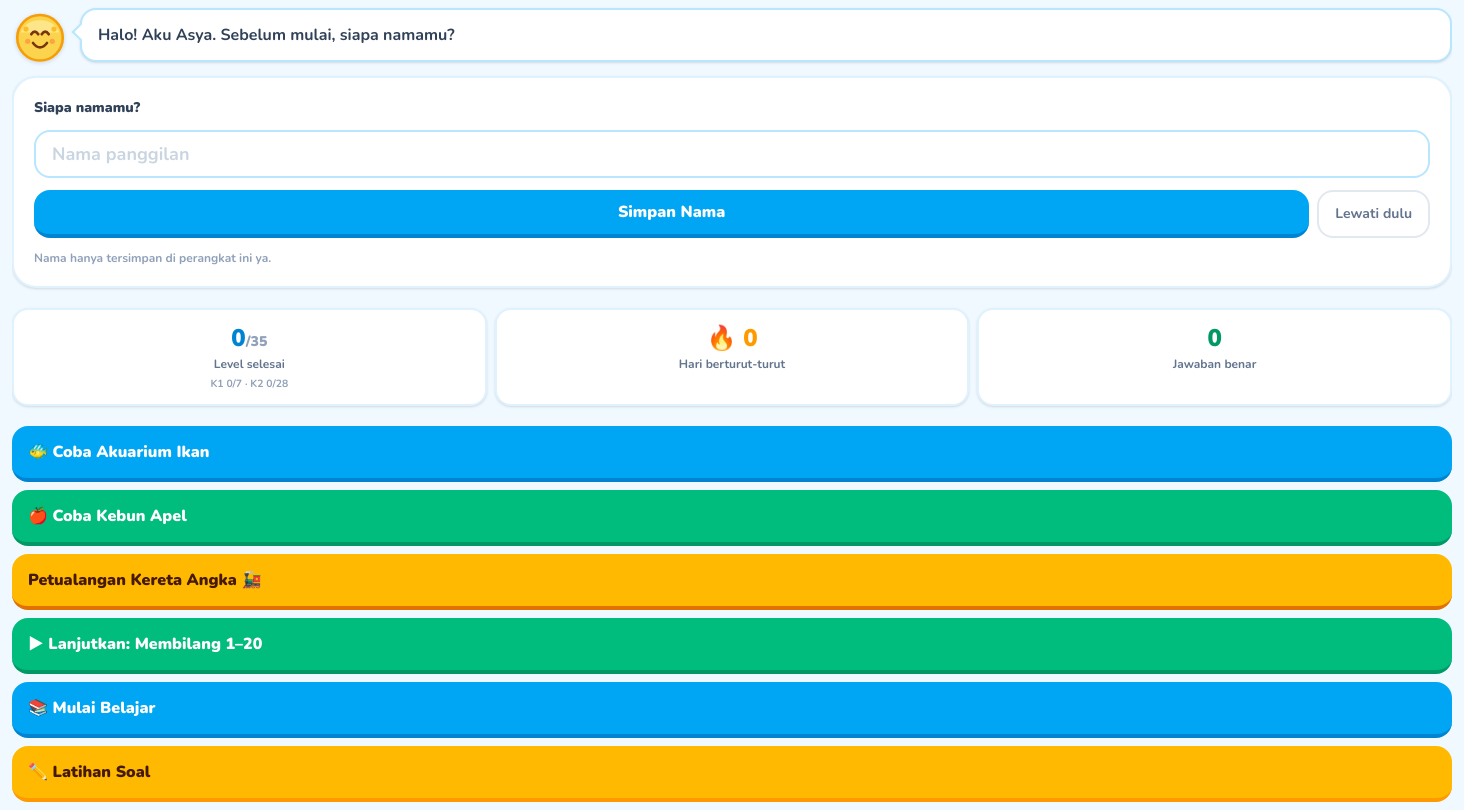
Test: HomeScreen › tombol lanjutkan ke concept vs column sesuai lastLevel
This screenshot has width=1464, height=810.
Later steps or results of the test are not shown.
Click the button "▶ Lanjutkan: Membilang 1–20". click: (145, 644)
box: x1=12 y1=618 x2=1452 y2=674
(page scrolled)
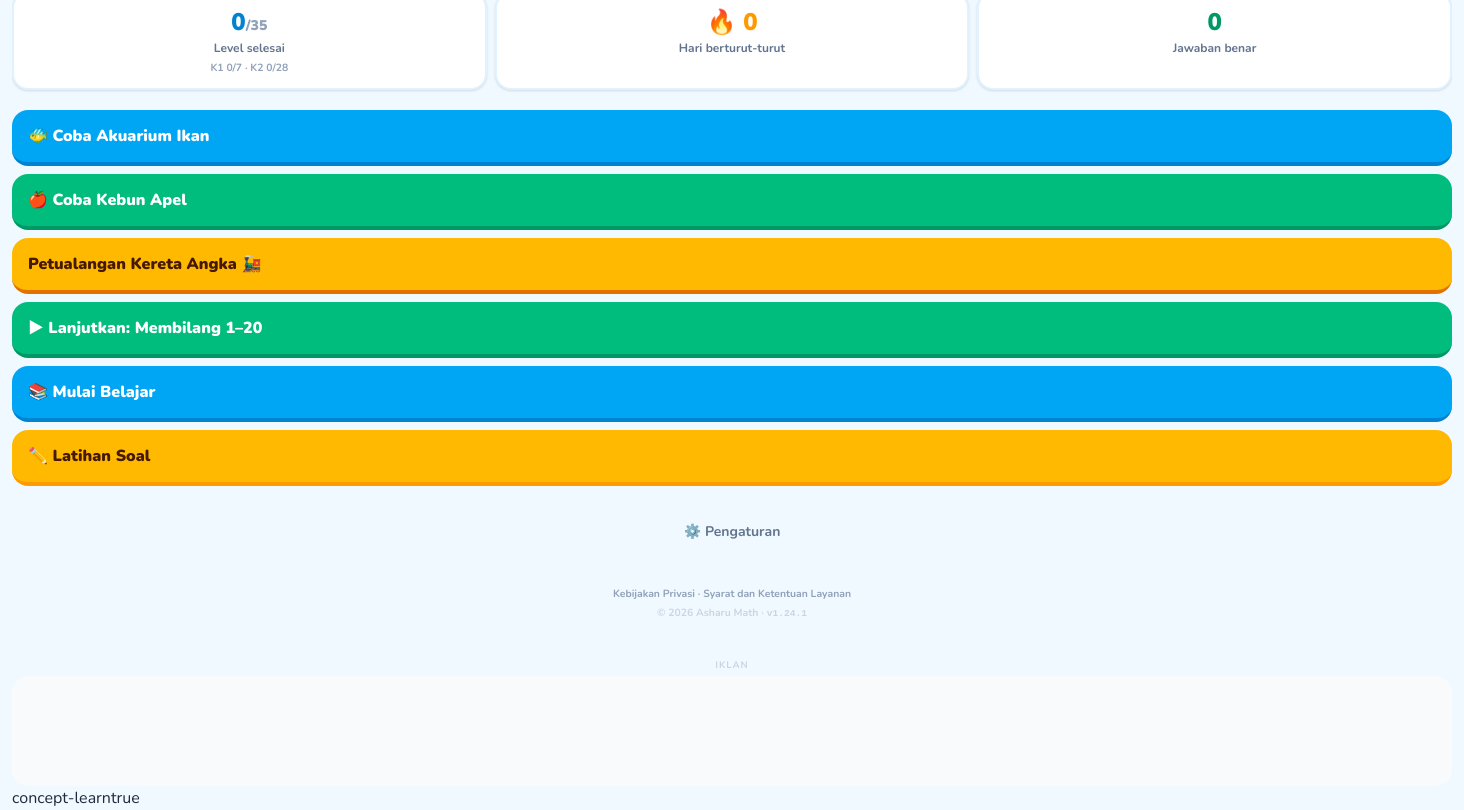
expect the text with test id "probe-screen" reads "concept-learn": met, box x1=12 y1=787 x2=111 y2=809
